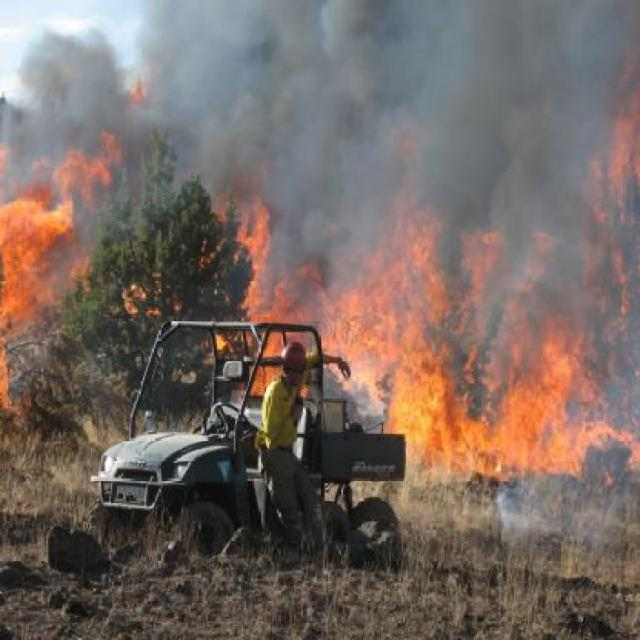Person: (259, 340, 350, 554)
